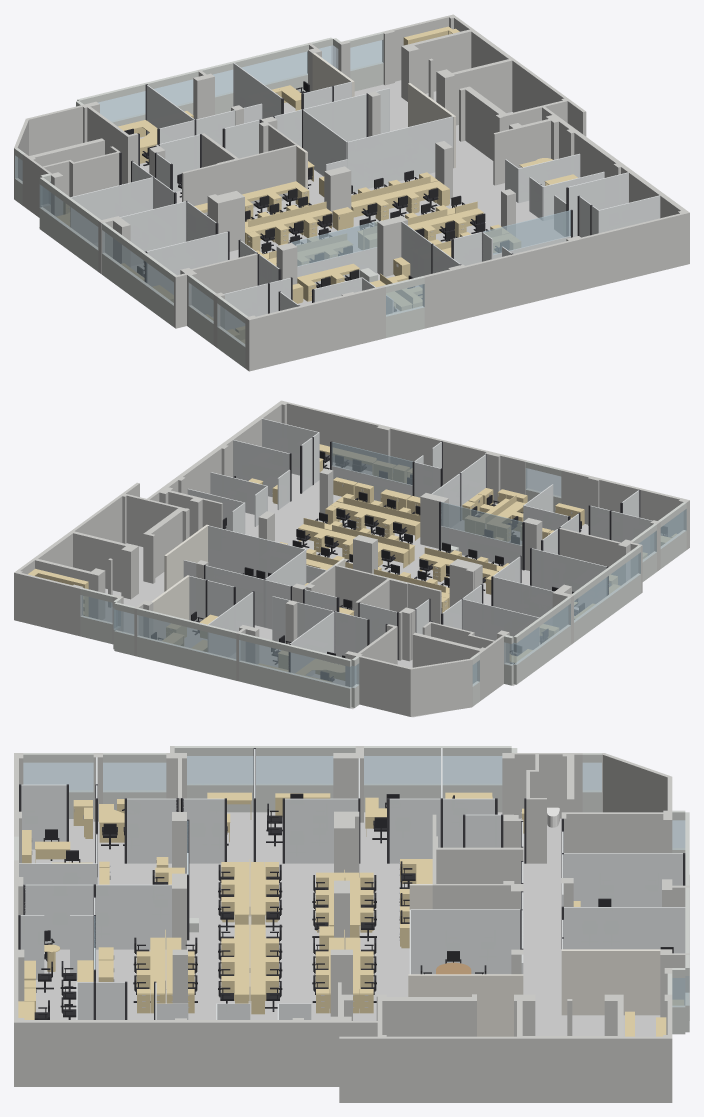
File: floor4.glb
3 renders of one model, top to bottom at view 1: azimuth 30°, elevation 25°; view 2: azimuth 150°, elevation 25°; view 3: azimuth 270°, elevation 25°, orthographic. The views are drawn at different scales.
Parts seen in each view (by area): view 1: Floor4_15-aisle-drawers_concrete_Blocking, Floor4_15-aisle-drawers_frosted_Blocking, Floor4_15-aisle-drawers_melamine_Decor, Floor4_15-aisle-drawers_glass_Blocking, Floor4_15-aisle-drawers_wall_Blocking, Floor4_15-aisle-drawers_Floor, Floor4_15-aisle-drawers_partition_Blocking, Floor4_15-aisle-drawers_aluminum_Blocking; view 2: Floor4_15-aisle-drawers_concrete_Blocking, Floor4_15-aisle-drawers_frosted_Blocking, Floor4_15-aisle-drawers_glass_Blocking, Floor4_15-aisle-drawers_wall_Blocking, Floor4_15-aisle-drawers_melamine_Decor, Floor4_15-aisle-drawers_Floor, Floor4_15-aisle-drawers_partition_Blocking, Floor4_15-aisle-drawers_aluminum_Blocking; view 3: Floor4_15-aisle-drawers_concrete_Blocking, Floor4_15-aisle-drawers_frosted_Blocking, Floor4_15-aisle-drawers_Floor, Floor4_15-aisle-drawers_melamine_Decor, Floor4_15-aisle-drawers_glass_Blocking, Floor4_15-aisle-drawers_wall_Blocking, Floor4_15-aisle-drawers_partition_Blocking, Floor4_15-aisle-drawers_aluminum_Blocking.
Boxes of the visible parts, box(x1,y1,x2,y2) form: Floor4_15-aisle-drawers_concrete_Blocking: box(14, 14, 689, 371); Floor4_15-aisle-drawers_frosted_Blocking: box(70, 63, 660, 329); Floor4_15-aisle-drawers_melamine_Decor: box(56, 26, 577, 343); Floor4_15-aisle-drawers_glass_Blocking: box(15, 40, 570, 346); Floor4_15-aisle-drawers_wall_Blocking: box(15, 32, 424, 368); Floor4_15-aisle-drawers_Floor: box(39, 80, 563, 317); Floor4_15-aisle-drawers_partition_Blocking: box(296, 53, 455, 189); Floor4_15-aisle-drawers_aluminum_Blocking: box(119, 84, 592, 313); Floor4_15-aisle-drawers_concrete_Blocking: box(14, 400, 689, 716); Floor4_15-aisle-drawers_frosted_Blocking: box(183, 418, 652, 676); Floor4_15-aisle-drawers_glass_Blocking: box(80, 442, 686, 688); Floor4_15-aisle-drawers_wall_Blocking: box(80, 460, 686, 708); Floor4_15-aisle-drawers_melamine_Decor: box(28, 444, 676, 682); Floor4_15-aisle-drawers_Floor: box(103, 461, 588, 717); Floor4_15-aisle-drawers_partition_Blocking: box(151, 524, 345, 640); Floor4_15-aisle-drawers_aluminum_Blocking: box(204, 437, 640, 672); Floor4_15-aisle-drawers_concrete_Blocking: box(14, 746, 689, 1102); Floor4_15-aisle-drawers_frosted_Blocking: box(19, 748, 685, 1019); Floor4_15-aisle-drawers_Floor: box(31, 812, 689, 1036); Floor4_15-aisle-drawers_melamine_Decor: box(18, 792, 683, 1036); Floor4_15-aisle-drawers_glass_Blocking: box(23, 756, 689, 1007); Floor4_15-aisle-drawers_wall_Blocking: box(14, 746, 689, 1034); Floor4_15-aisle-drawers_partition_Blocking: box(408, 884, 660, 1036); Floor4_15-aisle-drawers_aluminum_Blocking: box(18, 748, 685, 1019).
Bounding box in the file's own units: 23.41 × 2.4 × 22.85.
